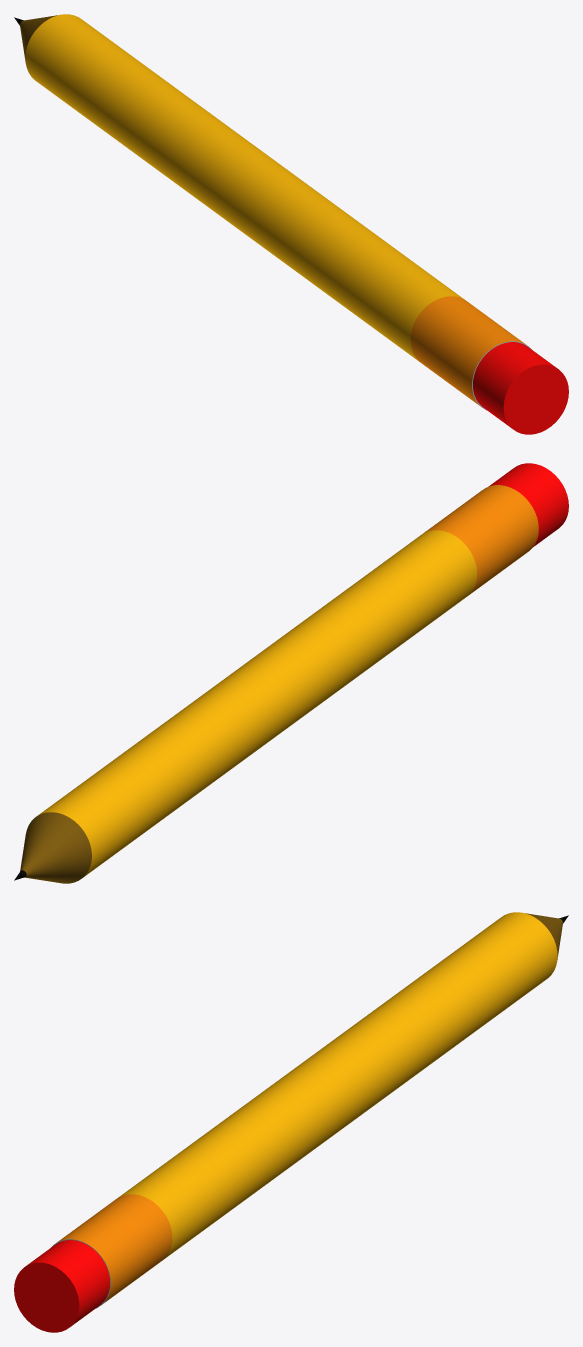
The model's file is Pencil.dae.
3 renders of one model, top to bottom at view 1: azimuth 30°, elevation 25°; view 2: azimuth 150°, elevation 25°; view 3: azimuth 330°, elevation 25°, orthographic.
Parts seen in each view (by area): view 1: ID2; view 2: ID2; view 3: ID2.
Part boxes in pixels (<box>): ID2: <box>14,14,568,434</box>; ID2: <box>14,463,568,883</box>; ID2: <box>14,912,568,1332</box>.
Size of the model in its own units: 0.0127 by 0.1722 by 0.0127.
